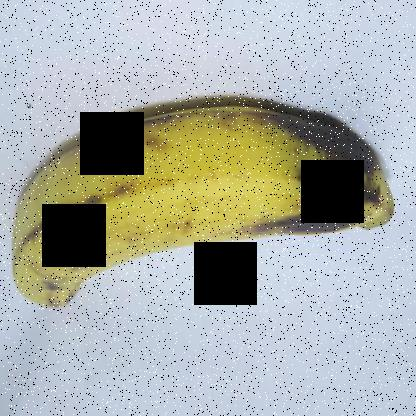ripe: (5, 77, 403, 332)
